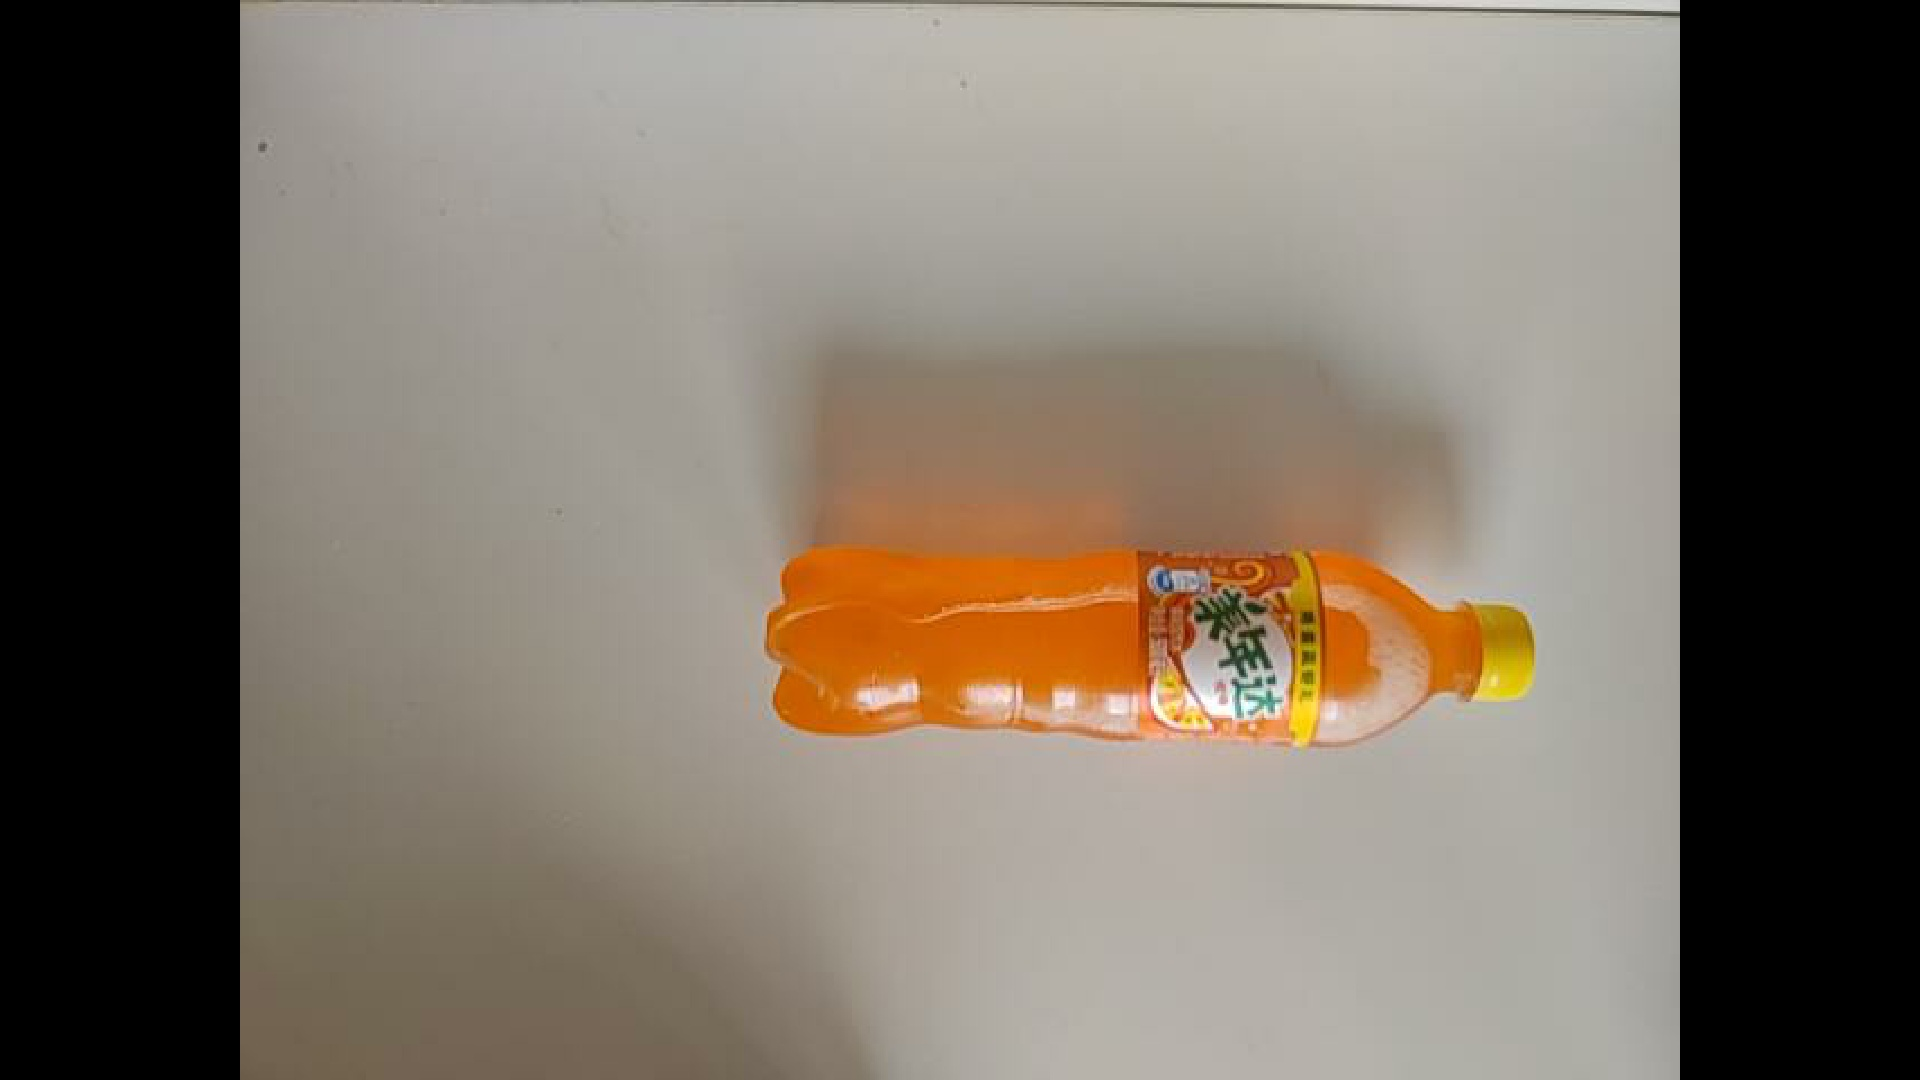fenta: (761, 538, 1540, 752)
